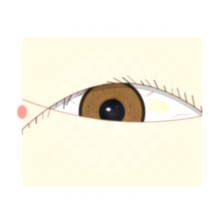pinguecula_lesion: (138, 90, 180, 123)
